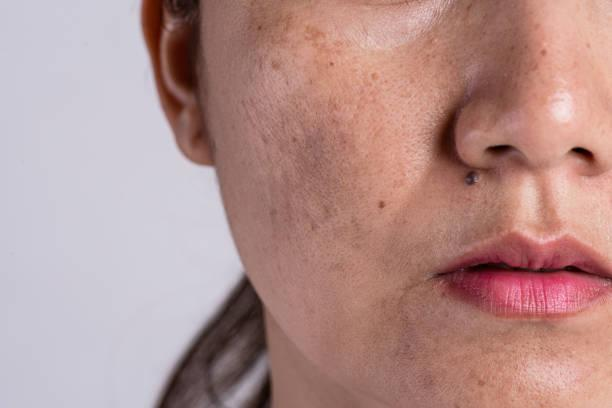Dry-Skin: (266, 176, 394, 343), (381, 0, 493, 101), (317, 150, 404, 271), (497, 90, 577, 191), (246, 28, 354, 98), (432, 344, 581, 386), (384, 86, 451, 177), (214, 119, 267, 199)
